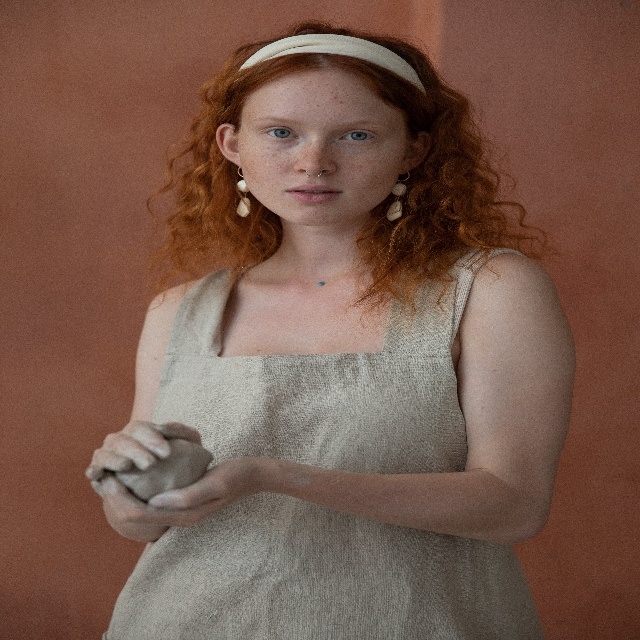Sin_guantes: (96, 454, 252, 541), (87, 419, 201, 481)
